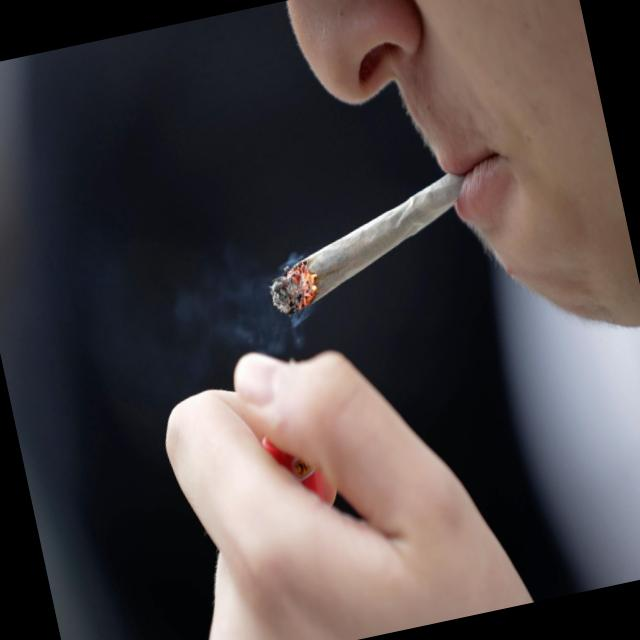cigarette: (250, 168, 490, 322)
